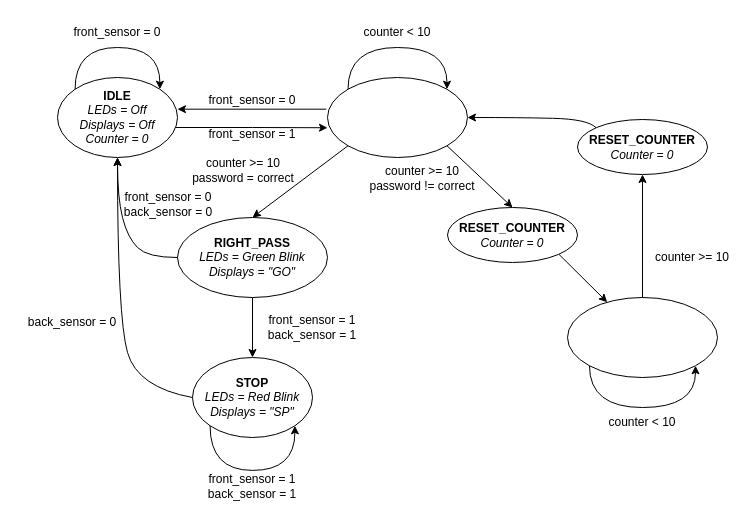
Image size: 754x518. Some labels were removed from this diagram. The shapes that lost their labels are listed below. From the top down, each one's centre as x and y in pixels, then its label:
point 397,117: WAIT LEDs = Red Steady Displays = "En" Counter + 1
point 642,337: WRONG_PASS LEDs = Red Blink Displays = "EE" Counter + 1
